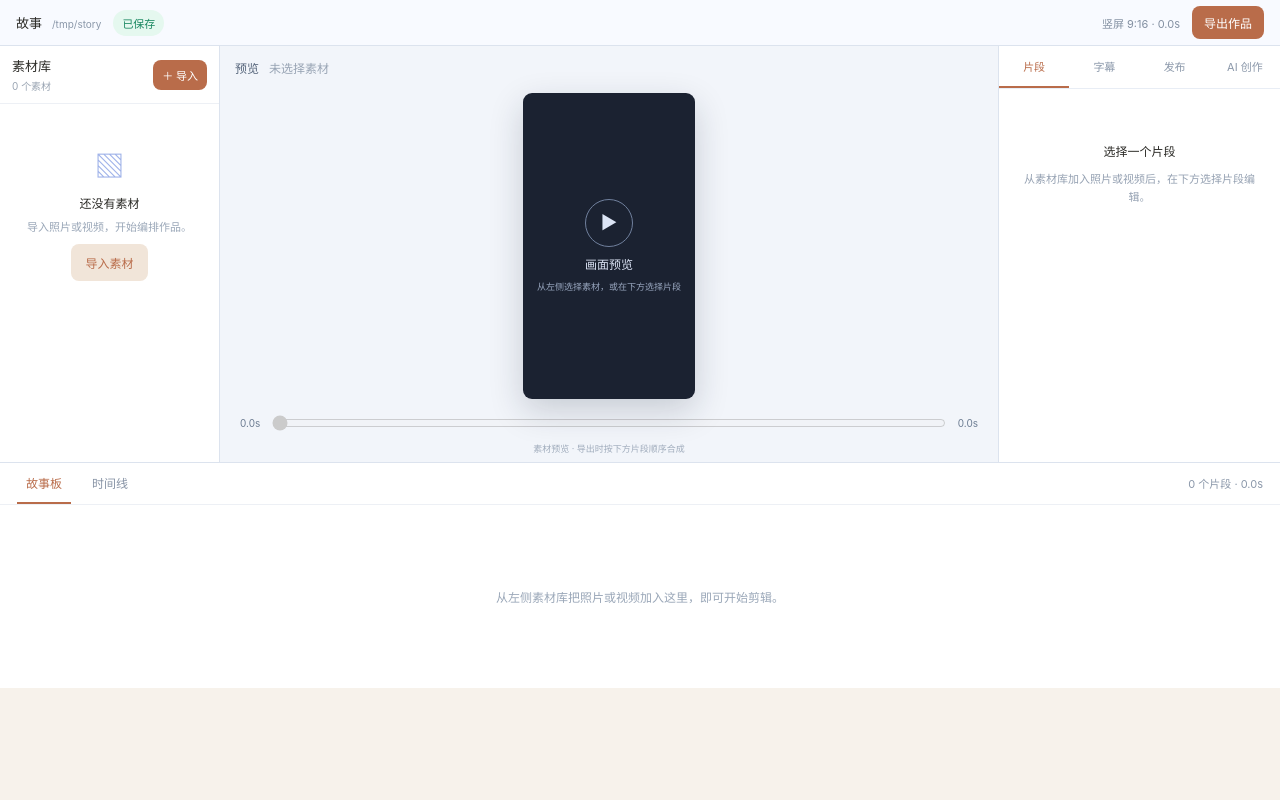
Scenario: ProjectWorkspace › keeps service setup, model names and cost estimates out of the AI workspace
This screenshot has width=1280, height=800.
Click the tab "AI 创作": [1245, 67] box x1=1210 y1=46 x2=1279 y2=88
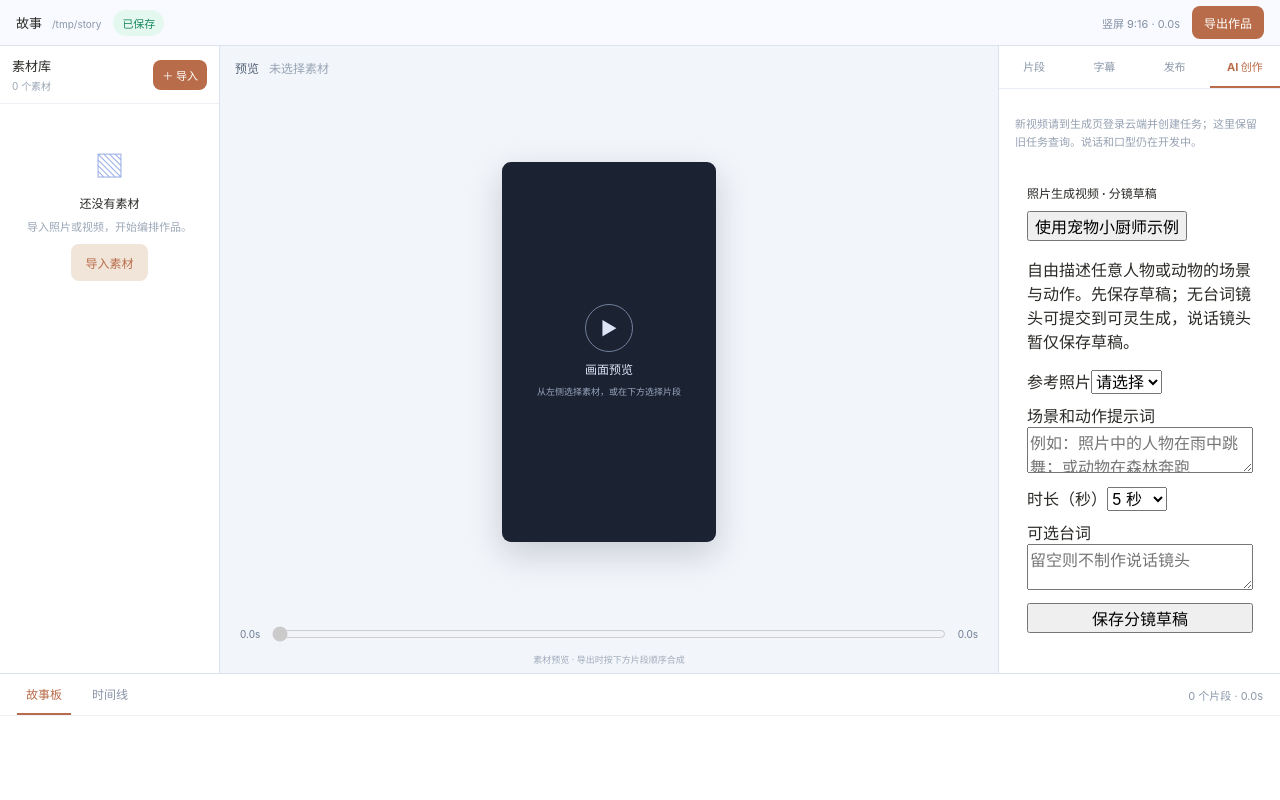
expect the heading "照片生成视频 · 分镜草稿" is shown: met, box x1=1027 y1=186 x2=1157 y2=201
